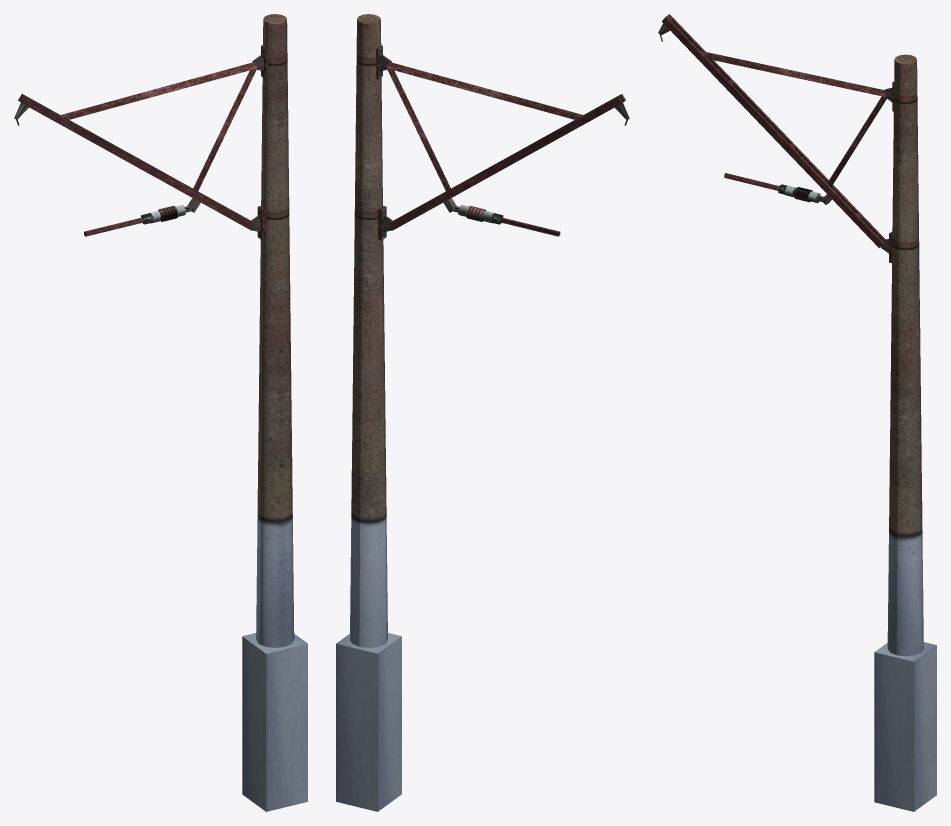
Rendered from opk1r.gltf.
3 renders of one model, left to right at view 1: azimuth 30°, elevation 25°; view 2: azimuth 150°, elevation 25°; view 3: azimuth 330°, elevation 25°, orthographic. The views are drawn at different scales.
Size of the model in its own units: 4.53 by 11.96 by 0.67.
1 material, 1 textured.
